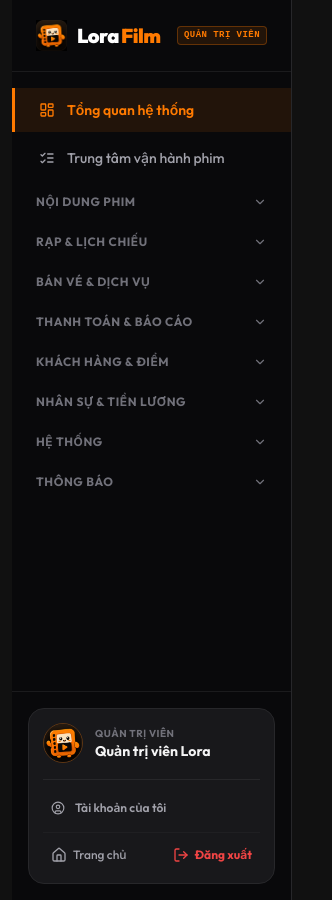
Test: AdminSidebar › separates booking, payment and reporting operations
Click the button "Bán vé & dịch vụ": coordinates (152, 282) [12,264,291,300]
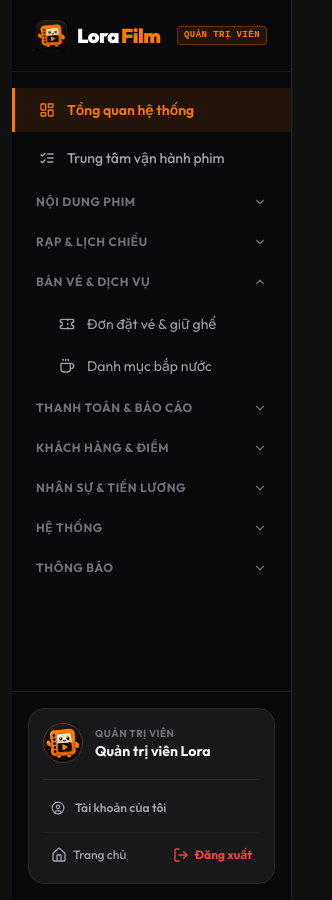
Now the text "Đơn đặt vé & giữ ghế" is shown, box [87,314,216,334]
Now the text "Danh mục bắp nước" is shown, box [87,356,212,376]
Click the button "Thanh toán & báo cáo": coordinates (152, 408) [12,390,291,426]
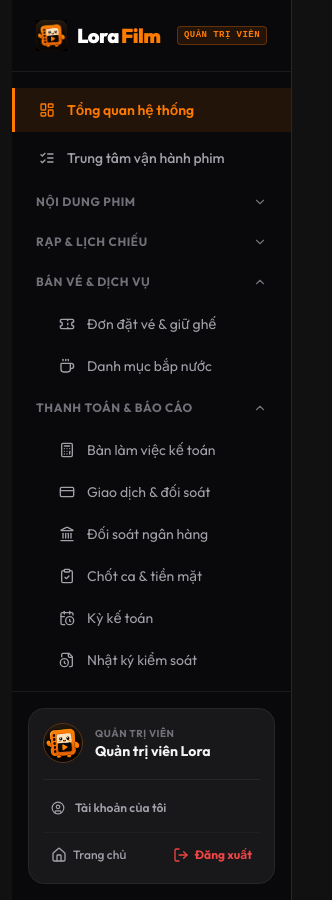
Now the text "Giao dịch & đối soát" is shown, box [87,482,210,502]
